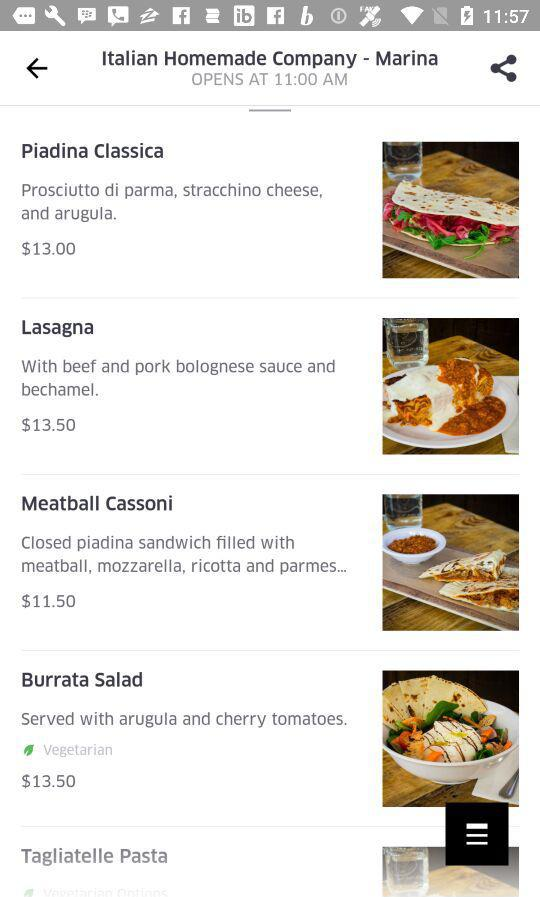Icon: (445, 802, 509, 866), (490, 55, 518, 83), (27, 58, 49, 80)
Image: (382, 670, 519, 807), (382, 494, 519, 631), (383, 319, 520, 456), (382, 143, 519, 279), (382, 846, 520, 897)
Text: (23, 536, 347, 575), (22, 183, 323, 223), (22, 360, 336, 397), (103, 50, 439, 70), (22, 712, 347, 729), (21, 848, 168, 867), (22, 495, 174, 512), (193, 73, 348, 89), (22, 143, 164, 160), (23, 672, 143, 688), (23, 320, 94, 338), (22, 744, 92, 758), (22, 774, 76, 789), (22, 594, 76, 609), (22, 418, 76, 433), (22, 241, 76, 256)
Toolbar: (1, 32, 540, 107)
UpperTaskBar: (1, 1, 540, 32)
